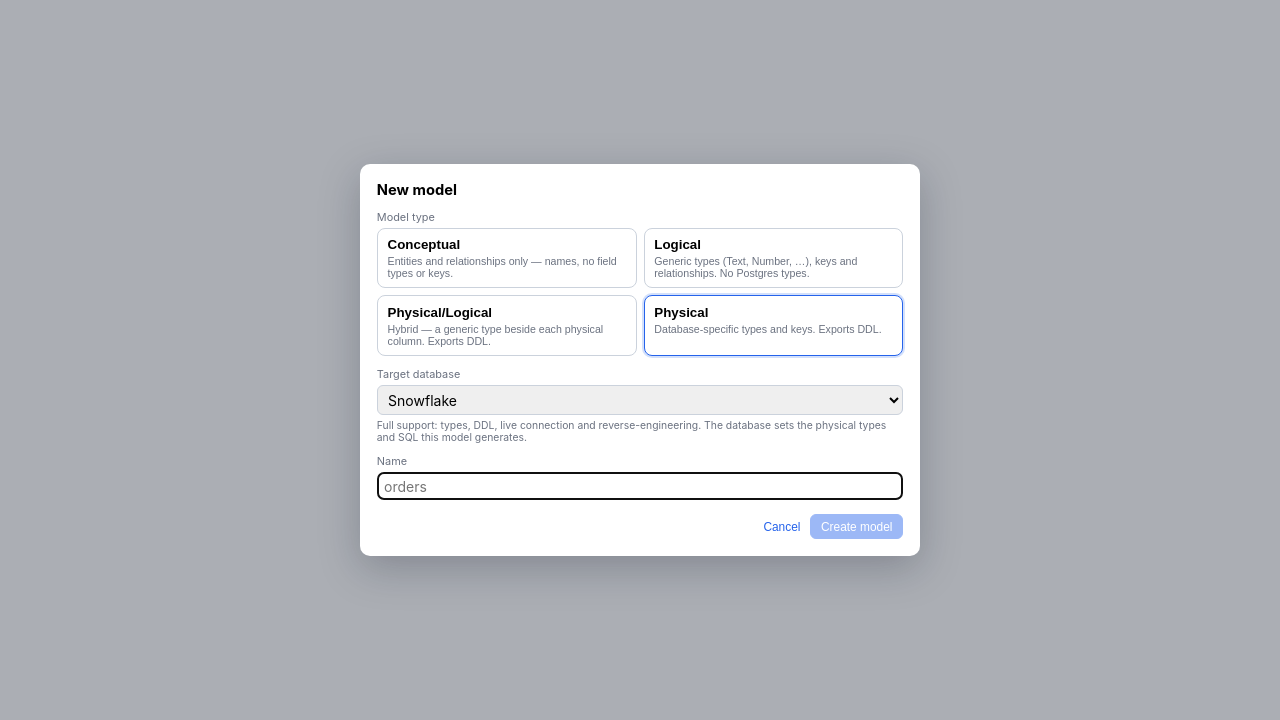
Test: NewModelDialog database selector (Req 17) › keeps the chosen database across a level change away and back
Select "Snowflake" in the dropdown with id "new-model-db": [640, 400] box [377,385,903,416]
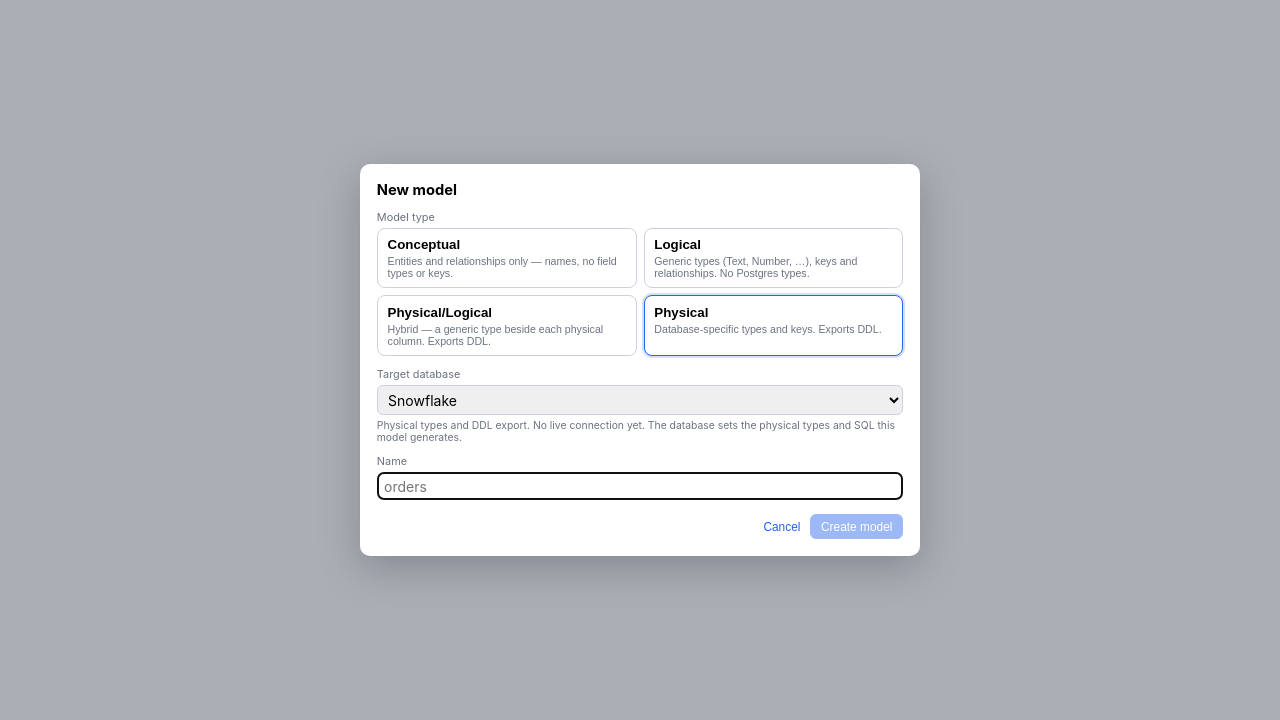
Click the button with class "level-card" that starts with "Logical": [773, 258] box [644,228,903,288]
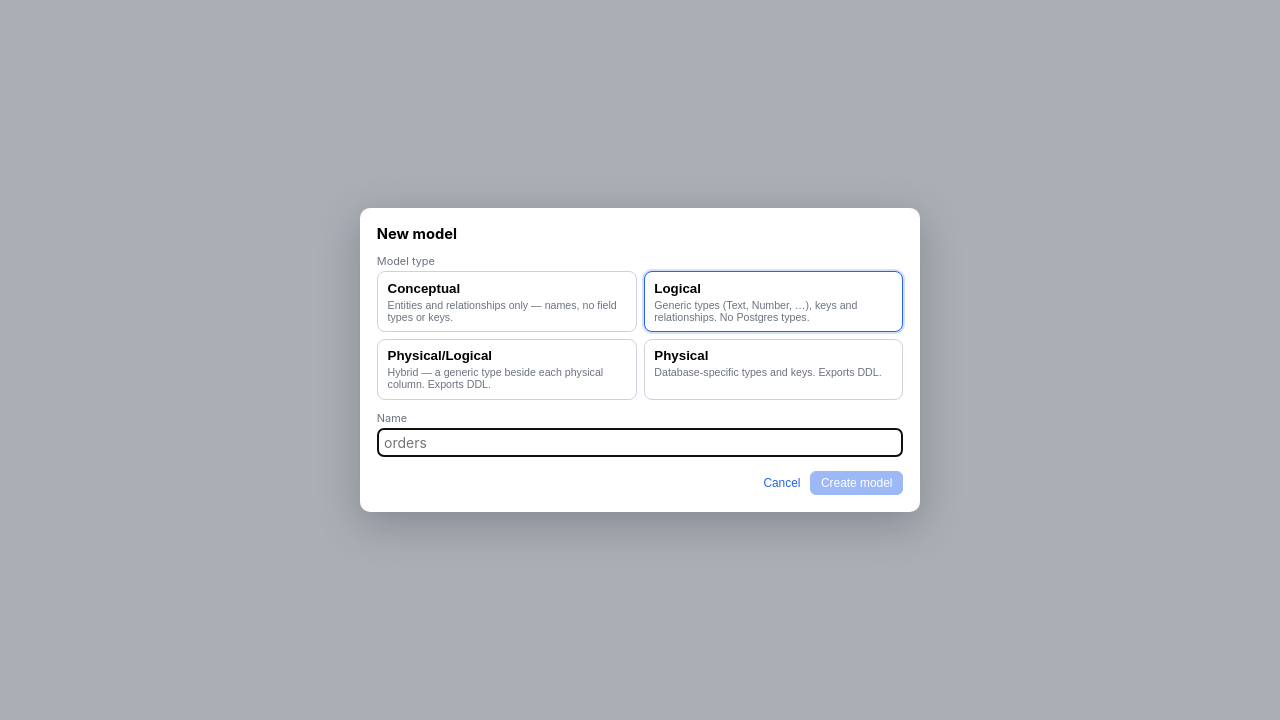
Click the 4th button with class "level-card": [773, 369] box [644,339,903,400]
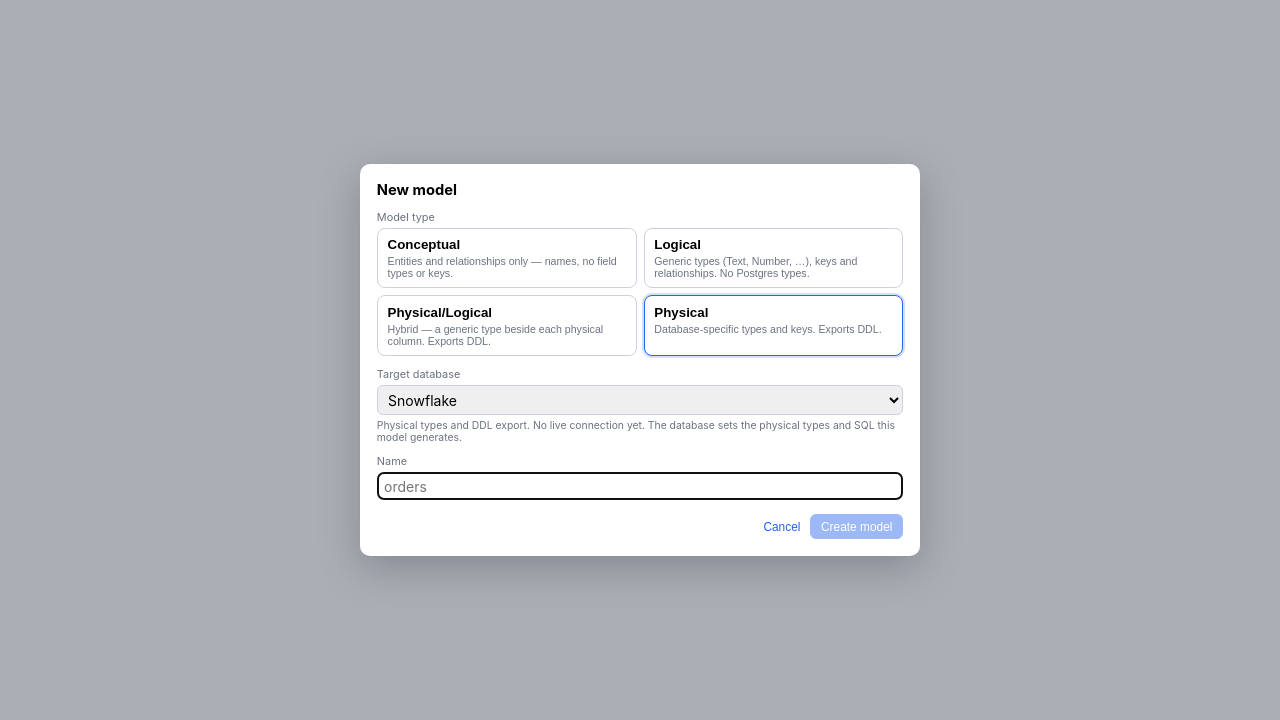
Check: the dropdown with id "new-model-db" shows "Snowflake", box [377,385,903,416]
